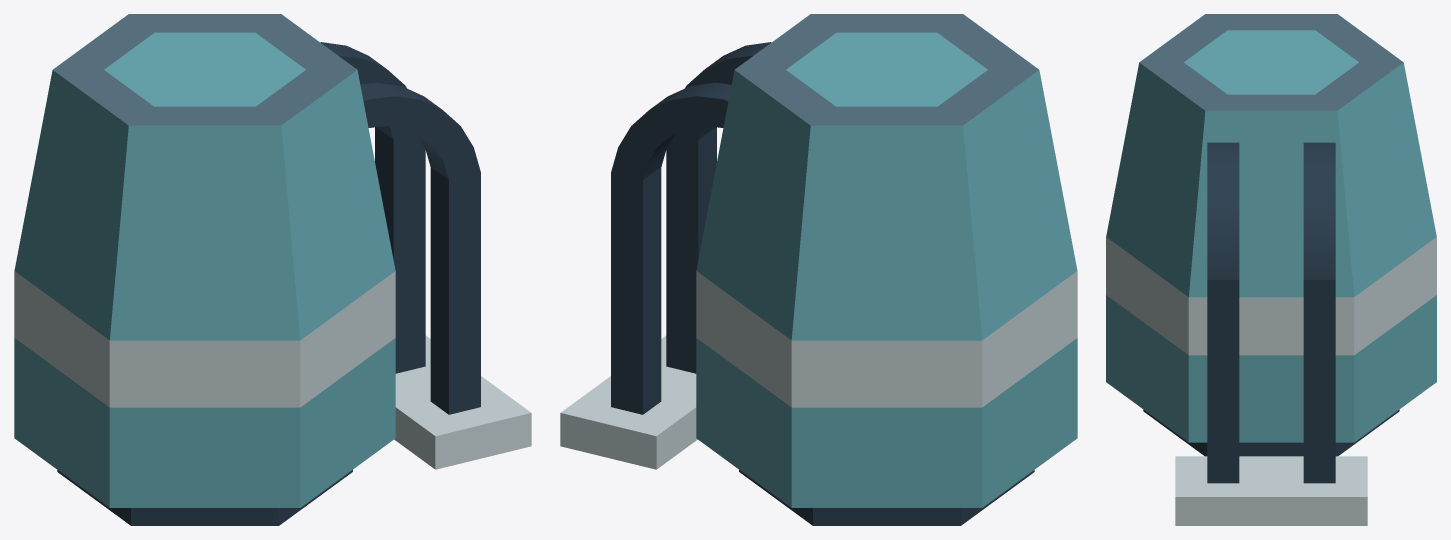
Rendered from machine_barrel.glb.
3 renders of one model, left to right at view 1: azimuth 30°, elevation 25°; view 2: azimuth 150°, elevation 25°; view 3: azimuth 270°, elevation 25°, orthographic. The views are drawn at different scales.
Visible parts, largest first — view 1: machine_barrel, cables; view 2: machine_barrel, cables; view 3: machine_barrel, cables.
Boxes of the visible parts, <box> form: machine_barrel: <box>14,14,395,525</box>; cables: <box>320,42,531,469</box>; machine_barrel: <box>696,14,1077,525</box>; cables: <box>560,42,771,469</box>; machine_barrel: <box>1106,14,1436,456</box>; cables: <box>1175,142,1367,525</box>.
Bounding box in the file's own units: 0.6464 × 0.6 × 0.5155.
